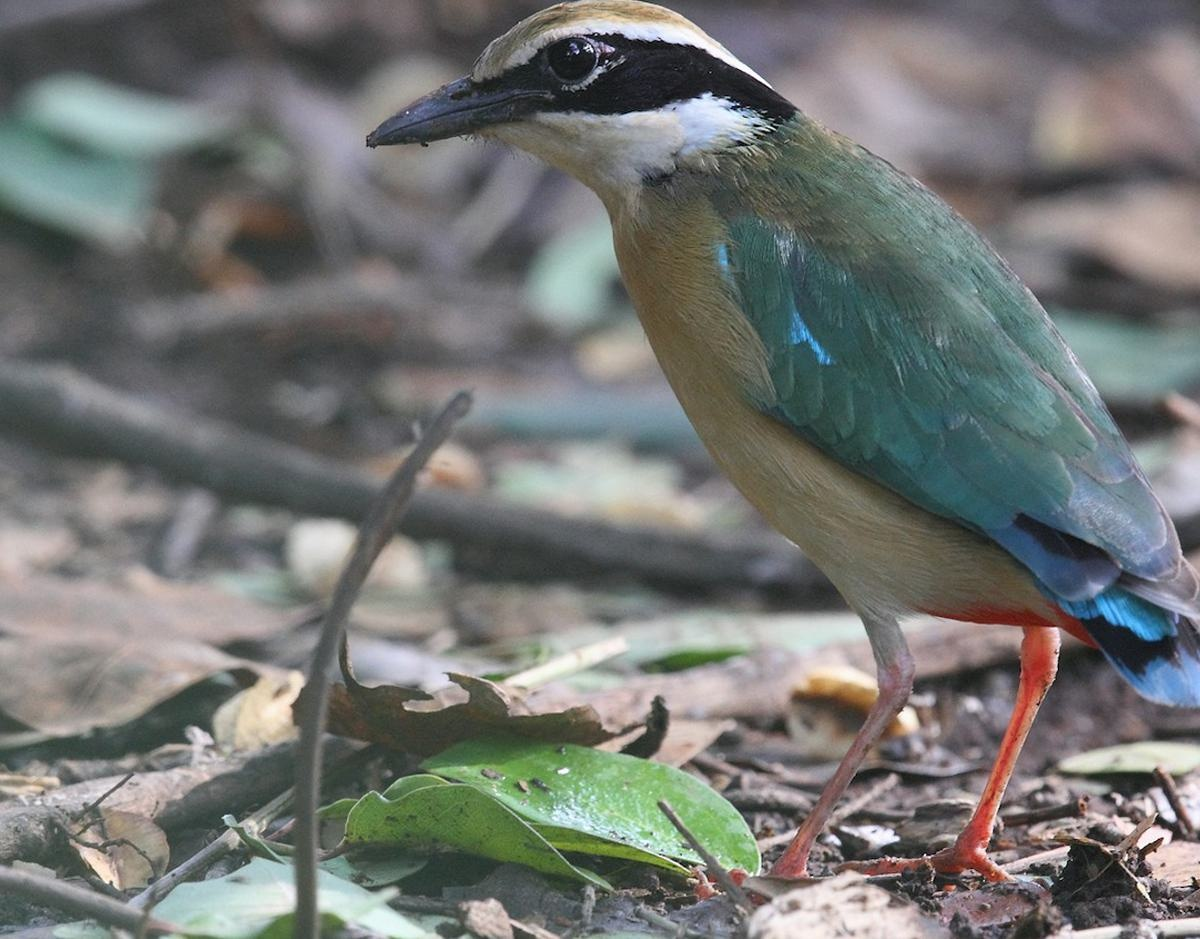pitta: (345, 5, 1162, 860)
